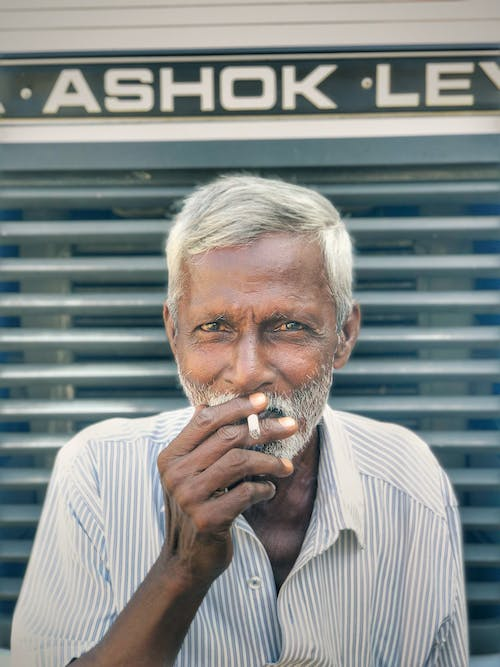cigarette: (246, 412, 264, 441)
